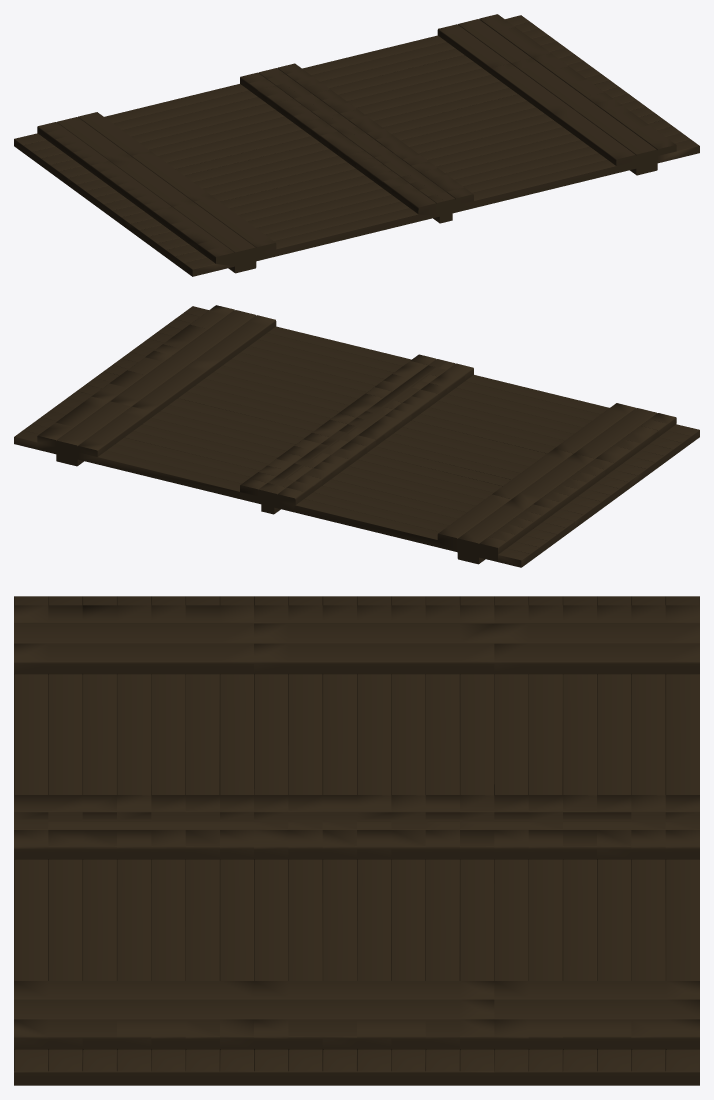
The model's file is passage_voiture.gltf.
3 views of the same model, one above another, from view 1: azimuth 30°, elevation 25°; view 2: azimuth 150°, elevation 25°; view 3: azimuth 270°, elevation 25° (orthographic). The views are drawn at different scales.
Visible parts, largest first — view 1: Cube; view 2: Cube; view 3: Cube.
Boxes of the visible parts, x1,y1,x2,y2 form: Cube: [14, 14, 699, 276]; Cube: [14, 305, 699, 567]; Cube: [14, 596, 699, 1085].
Size of the model in its own units: 9.78 by 0.3927 by 5.96.
